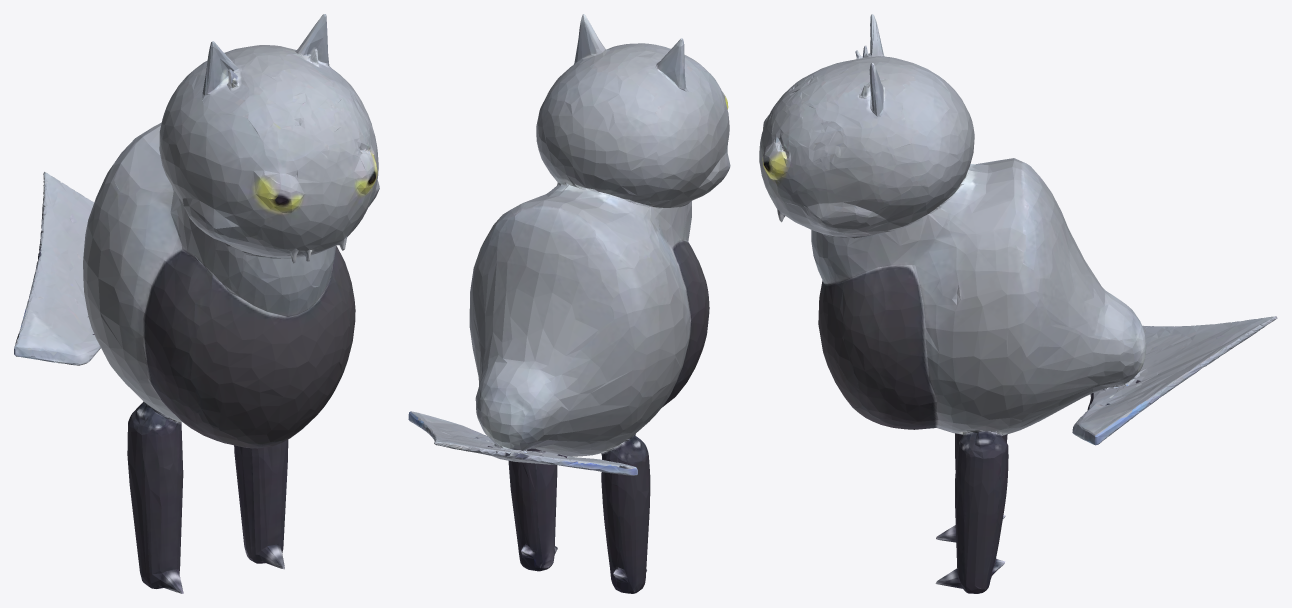
The model's file is creature-078.lod.glb.
The picture shows the model from 3 angles, left to right: view 1: azimuth 30°, elevation 25°; view 2: azimuth 150°, elevation 25°; view 3: azimuth 270°, elevation 25°; orthographic projection. The views are drawn at different scales.
Visible parts, largest first — view 1: tmpnm7gtrzv.ply; view 2: tmpnm7gtrzv.ply; view 3: tmpnm7gtrzv.ply.
Part boxes in pixels (bbox=[...]): tmpnm7gtrzv.ply: bbox=[14, 14, 379, 593]; tmpnm7gtrzv.ply: bbox=[408, 14, 730, 593]; tmpnm7gtrzv.ply: bbox=[759, 14, 1277, 593].
Size of the model in its own units: 0.9213 by 1.99 by 1.77.
1 material, 1 textured.
